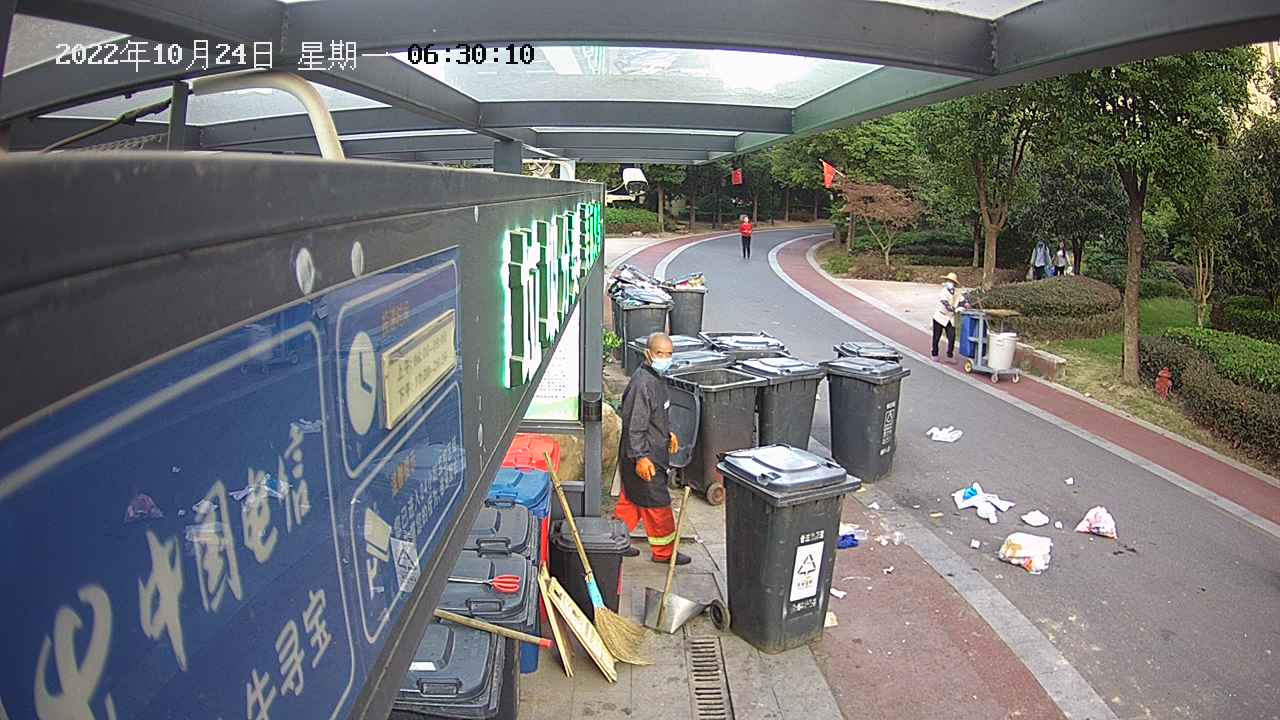garbage-bag: (993, 527, 1055, 579), (1072, 501, 1122, 543)
worker: (605, 329, 698, 567)
